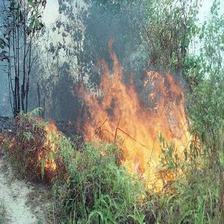fire: (73, 55, 204, 198), (7, 117, 62, 174)
